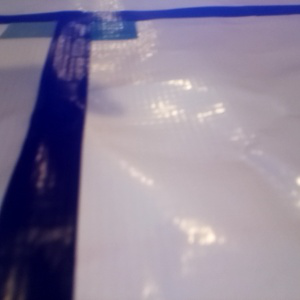bottom_left: (1, 15, 92, 39)
bottom_right: (57, 11, 137, 40)
